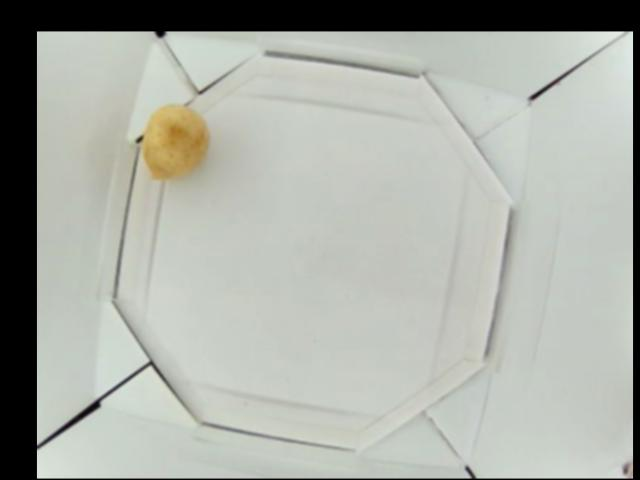Potato: (137, 104, 211, 177)
